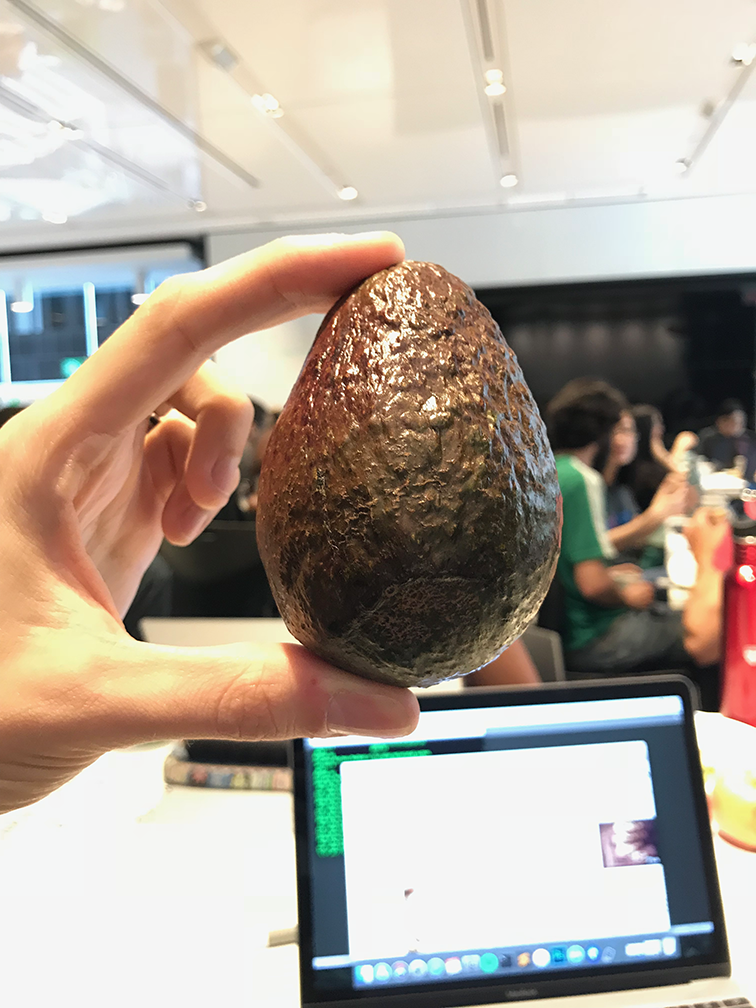avocado: (245, 243, 570, 713)
